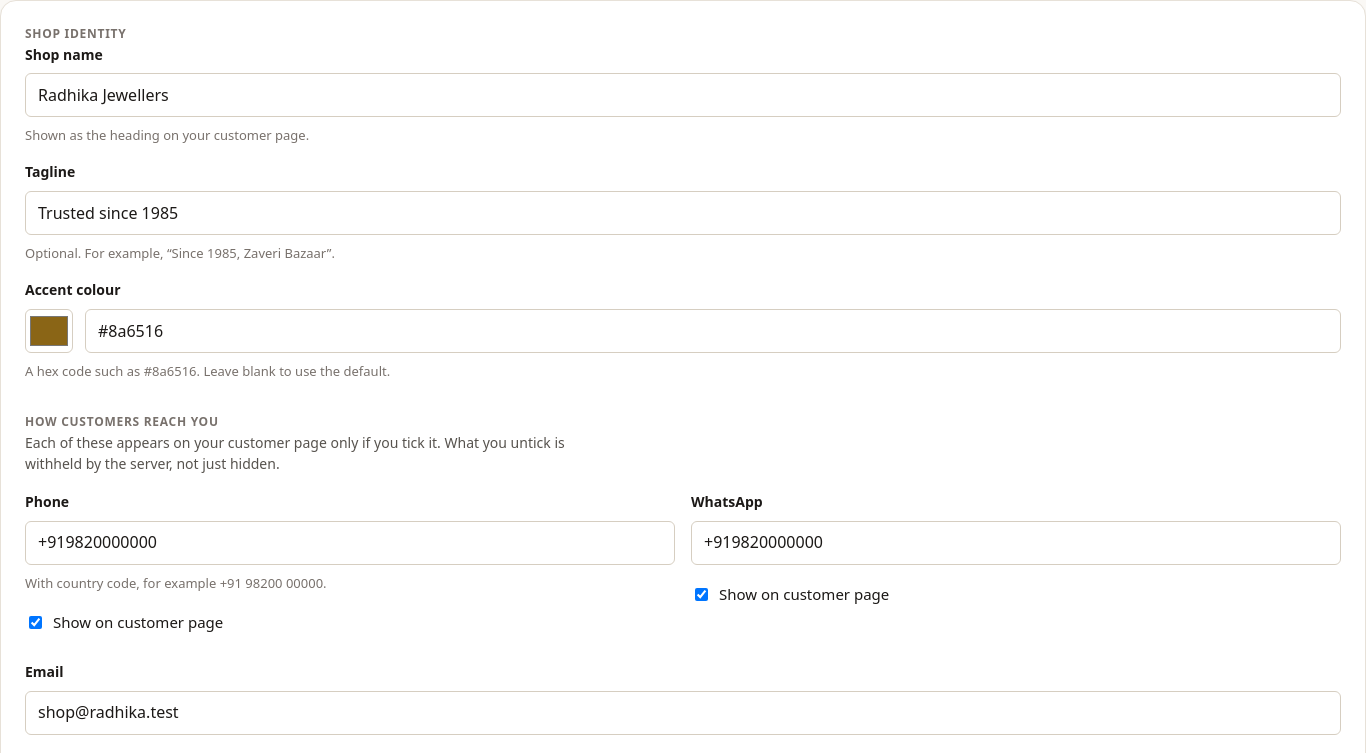
Scenario: editing shop details › Settings_afterSaving_confirms
Step 1. Type "!" into the field labelled "Tagline" → (683, 213), box [25,191,1341,235]
(page scrolled)
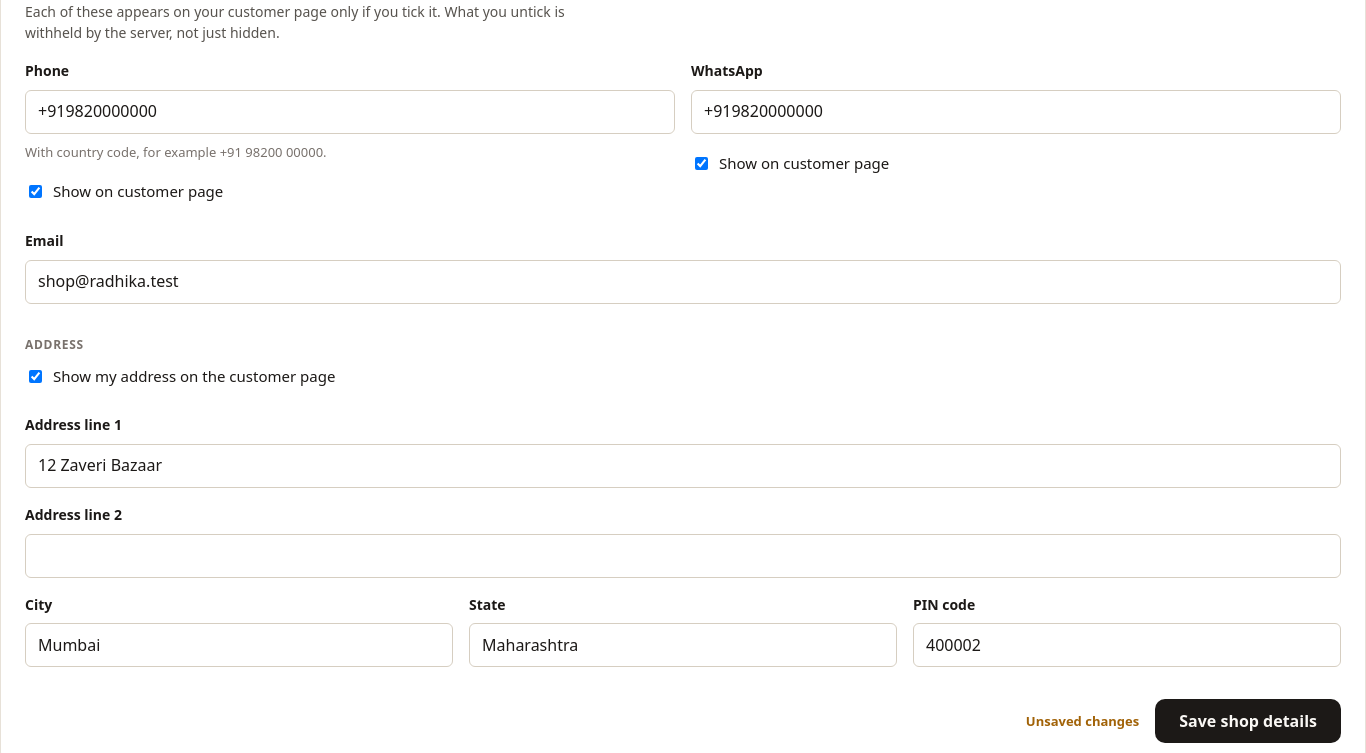
Step 2. Click the button "Save shop details" → (1248, 721), box [1155,699,1341,743]
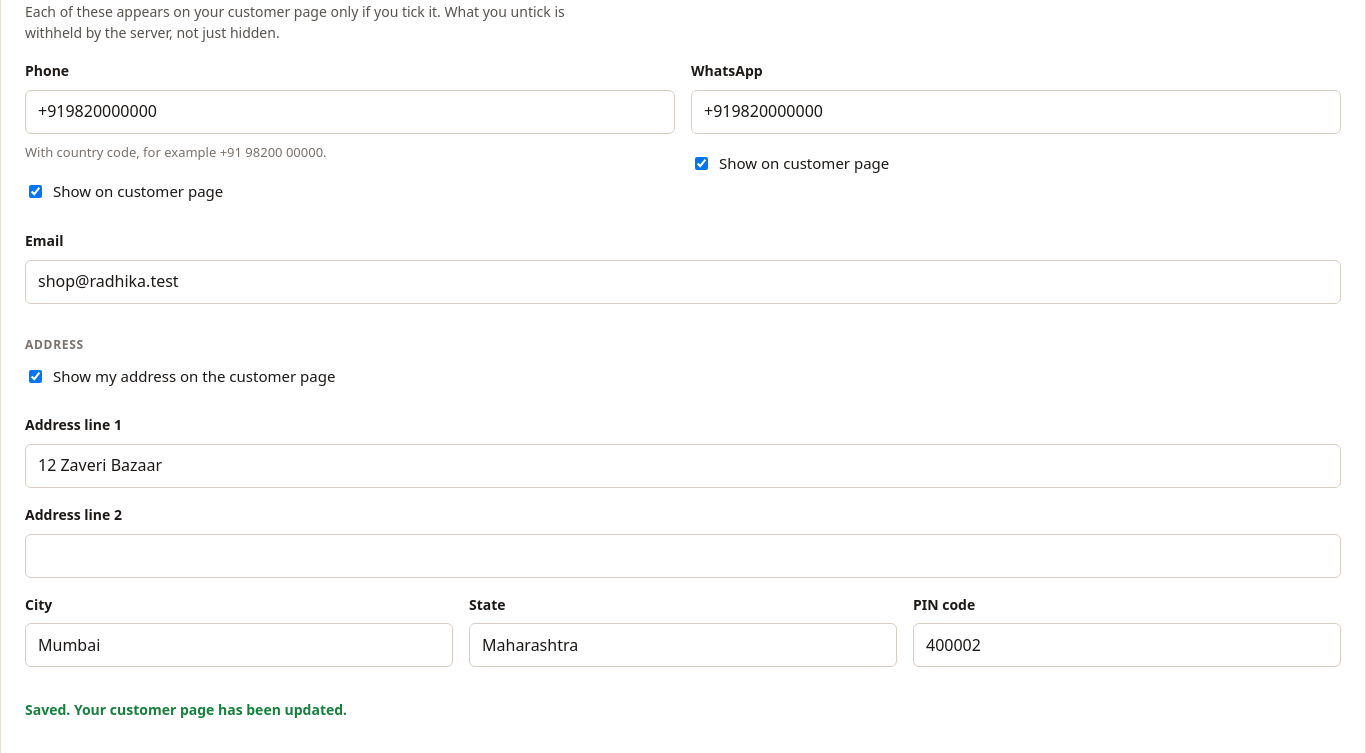
Expected: the text "Saved. Your customer page has been updated." is shown, [25,700,347,719]
Expected: the text "Unsaved changes" is gone
